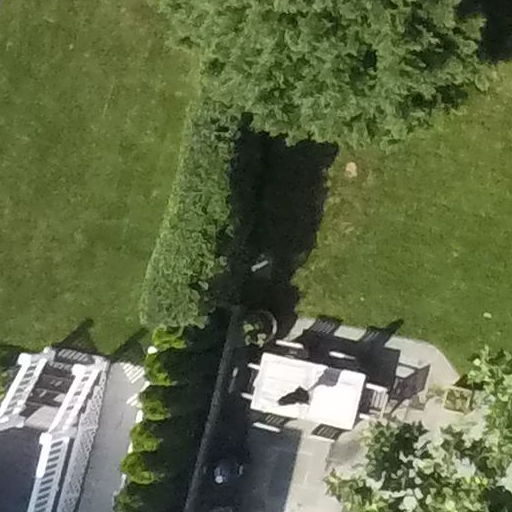container: (238, 303, 281, 347), (445, 382, 476, 415)
flower pot: (441, 379, 472, 420)
table: (250, 346, 366, 437)
